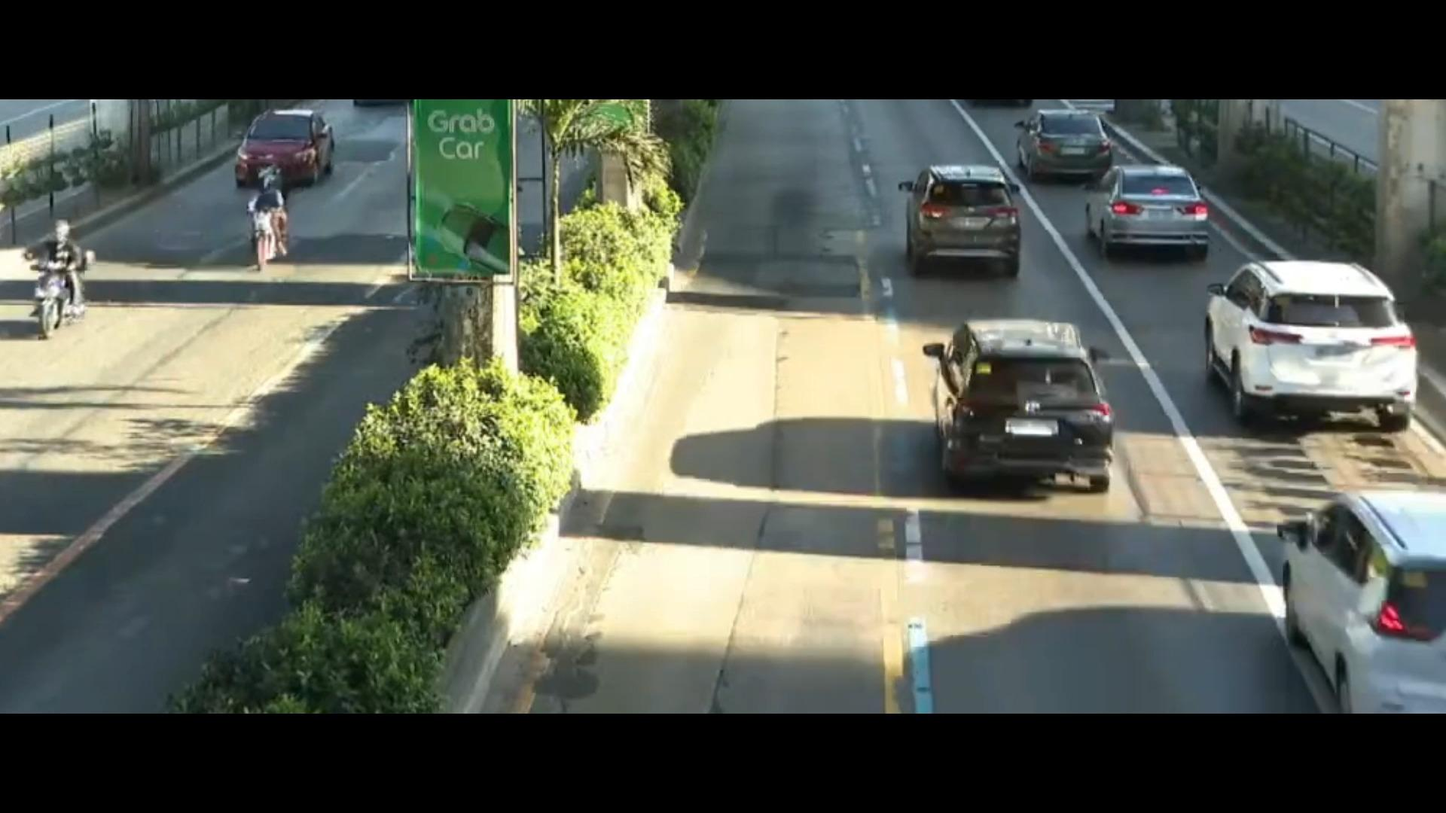Motorcycle: (0, 209, 108, 357), (241, 177, 305, 267)
SUV: (1239, 471, 1446, 715), (1182, 251, 1439, 441), (919, 307, 1134, 506), (891, 157, 1032, 279)
Sedan: (1088, 164, 1226, 252), (1003, 96, 1119, 196), (238, 110, 366, 190)
